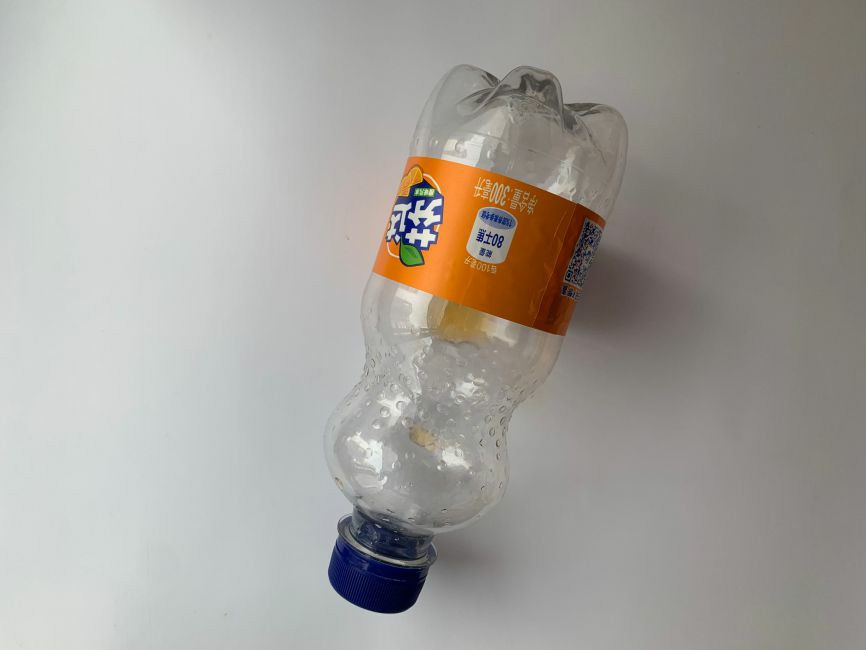bottle: (311, 59, 632, 622)
